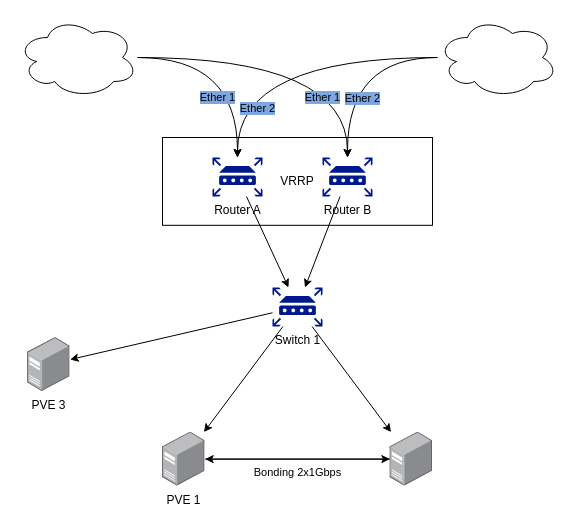
The diagram is 575 pixels wide and 525 high, and some of its shapes have lost their labels. Here are the shapes that lost their labels. From the top down, the box of each, then its label:
(16, 16, 138, 98): ISP Oxygen
(436, 16, 558, 98): ISP Biznet
(389, 432, 432, 486): PVE 2
